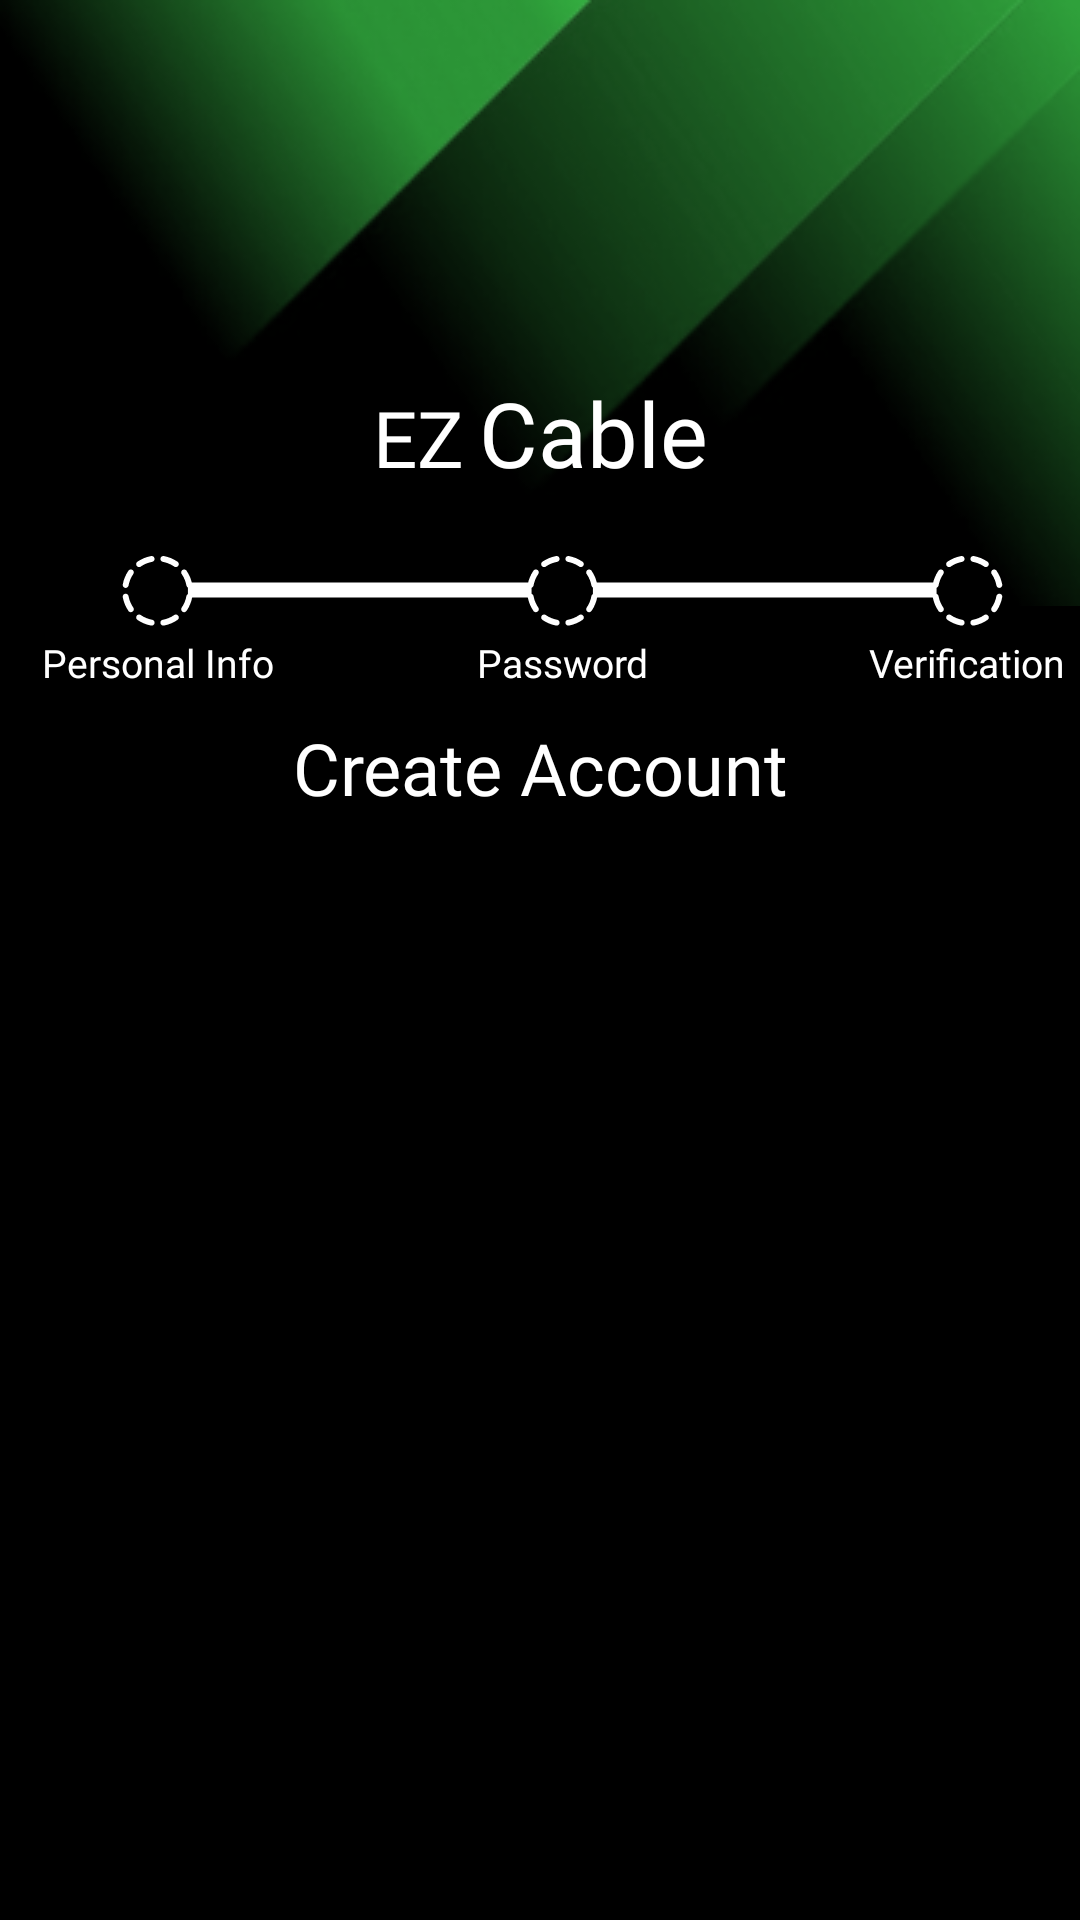

Point at icon controls on the screen. Image size 1080×1920, points as point (x, y).
notcompleted: point (150, 591), point (562, 591), point (974, 591)
